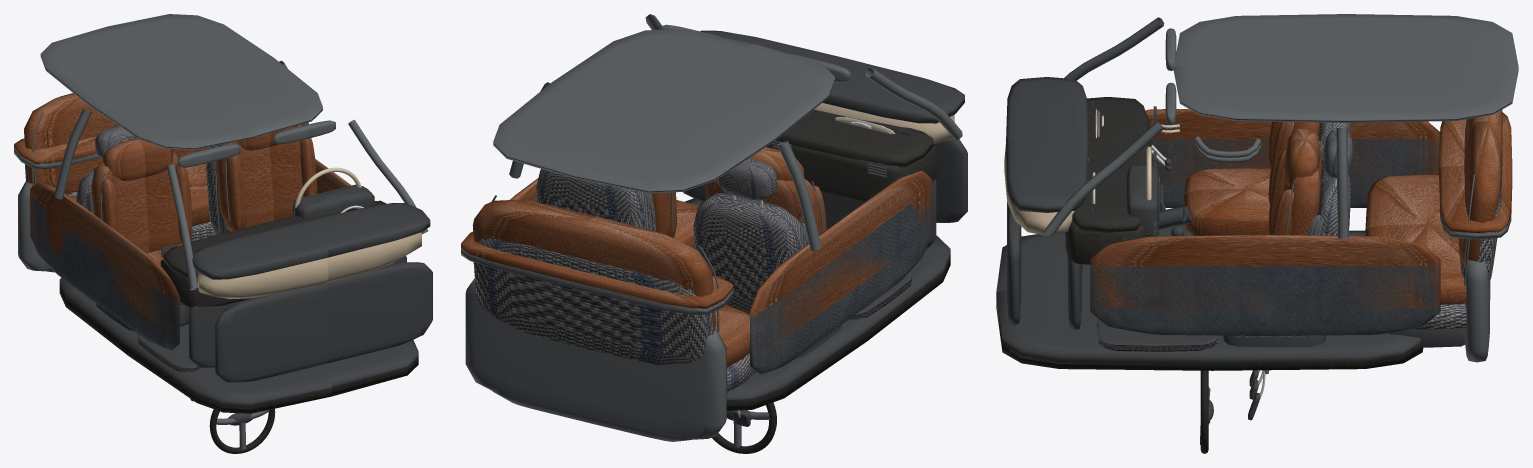
File: cabines-compactas-db99f007.glb
3 renders of one model, left to right at view 1: azimuth 30°, elevation 25°; view 2: azimuth 150°, elevation 25°; view 3: azimuth 270°, elevation 25°, orthographic. The views are drawn at different scales.
Parts seen in each view (by area): view 1: fusca, uno, volanteUno; view 2: uno, fusca, volanteUno; view 3: uno, fusca, volanteUno.
Boxes of the visible parts, x1,y1,x2,y2 form: fusca: (14,93,432,409); uno: (14,14,428,413); volanteUno: (209,408,275,453); uno: (461,14,962,441); fusca: (461,30,967,439); volanteUno: (712,402,776,453); uno: (996,14,1518,370); fusca: (996,77,1512,365); volanteUno: (1200,370,1213,453).
Bounding box in the file's own units: 1.31 × 1.61 × 1.97.
11 materials, 6 textured.
